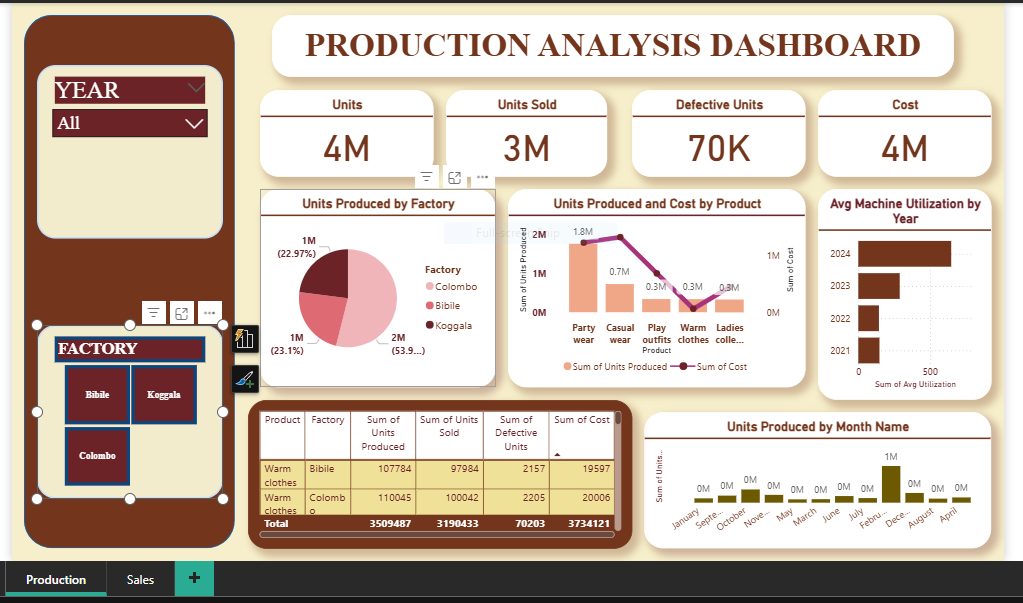

This screenshot's page, from the dashboard's own definition file:
{"tool":"powerbi","page":{"name":"Production","canvas":[1280,720],"ordinal":0},"visuals":[{"type":"shape","box":[16,16,272,688],"z":0},{"type":"textbox","box":[336,16,880,80],"z":1000},{"type":"card","title":"Units","fields":{"Values":["Sum(Sheet1 (2).Units Produced)"]},"box":[320,112,224,112],"z":3000},{"type":"card","title":"Units Sold","fields":{"Values":["Sum(Sheet1 (2).Units Sold)"]},"box":[560,112,208,112],"z":4000},{"type":"card","title":" Defective Units","fields":{"Values":["Sum(Sheet1 (2).Defective Units)"]},"box":[800,112,224,112],"z":5000},{"type":"card","title":"Cost","fields":{"Values":["Sum(Sheet1 (2).Cost)"]},"box":[1040,112,224,112],"z":6000},{"type":"pieChart","title":"Units Produced by Factory","fields":{"Category":["Sheet1 (2).Factory"],"Y":["Sum(Sheet1 (2).Units Produced)"]},"box":[320,240,304,256],"z":7000},{"type":"lineStackedColumnComboChart","title":"Units Produced and  Cost by Product","fields":{"Category":["Sheet1 (2).Product"],"Y":["Sum(Sheet1 (2).Units Produced)"],"Y2":["Sum(Sheet1 (2).Cost)"]},"box":[640,240,384,256],"z":8000},{"type":"barChart","title":"Avg Machine Utilization by Year","fields":{"Category":["Sheet1 (2).Year"],"Y":["Sum(Sheet1 (2).Avg Utilization)"]},"box":[1040,240,224,272],"z":9000},{"type":"columnChart","title":"Units Produced by Month Name","fields":{"Category":["Sheet1 (2).Month Name"],"Y":["Sum(Sheet1 (2).Units Produced)","Sum(Sheet1 (2).Month  n)"]},"box":[816,528,448,176],"z":10000},{"type":"tableEx","fields":{"Values":["Sheet1 (2).Product","Sheet1 (2).Factory","Sum(Sheet1 (2).Units Produced)","Sum(Sheet1 (2).Units Sold)","Sum(Sheet1 (2).Defective Units)","Sum(Sheet1 (2).Cost)"]},"box":[304,512,496,192],"z":11000},{"type":"slicer","fields":{"Values":["Sheet1 (2).Year"]},"box":[32,80,240,224],"z":12000},{"type":"slicer","fields":{"Values":["Sheet1 (2).Factory"]},"box":[32,416,240,224],"z":13000}]}

Visuals, with their boxes on the page's 1280x720 design canvas (x1, y1, x2, y2). These are canvas units, not pixel positions in the 1023x603 screenshot, which may show the page scaled, cropped or inside an application window:
shape: <region>16, 16, 288, 704</region>
textbox: <region>336, 16, 1216, 96</region>
"Units" card: <region>320, 112, 544, 224</region>
"Units Sold" card: <region>560, 112, 768, 224</region>
" Defective Units" card: <region>800, 112, 1024, 224</region>
"Cost" card: <region>1040, 112, 1264, 224</region>
"Units Produced by Factory" pieChart: <region>320, 240, 624, 496</region>
"Units Produced and  Cost by Product" lineStackedColumnComboChart: <region>640, 240, 1024, 496</region>
"Avg Machine Utilization by Year" barChart: <region>1040, 240, 1264, 512</region>
"Units Produced by Month Name" columnChart: <region>816, 528, 1264, 704</region>
tableEx - Sheet1 (2).Product x Sheet1 (2).Factory: <region>304, 512, 800, 704</region>
slicer - Sheet1 (2).Year: <region>32, 80, 272, 304</region>
slicer - Sheet1 (2).Factory: <region>32, 416, 272, 640</region>
